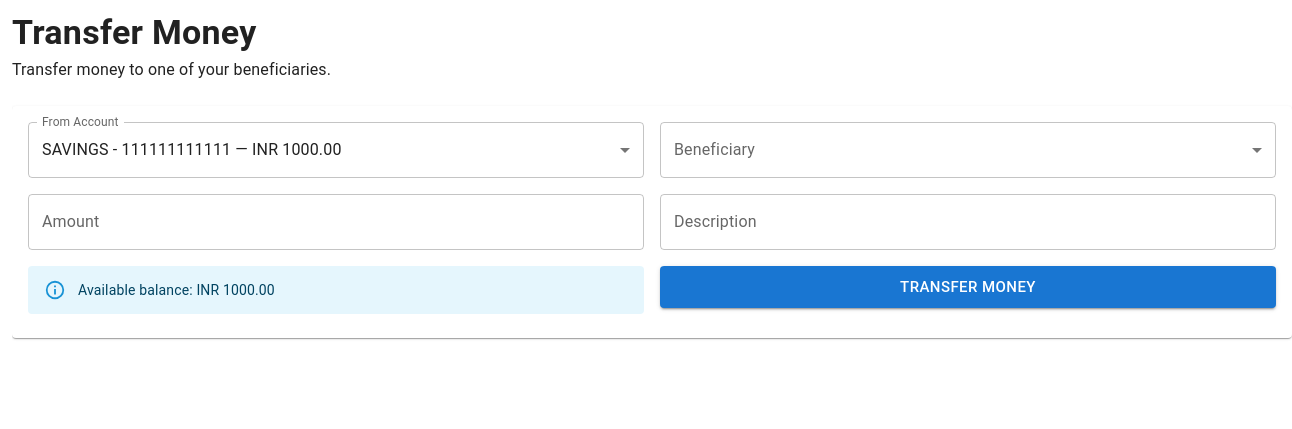
Test: Transfer › rejects an amount greater than the balance
This screenshot has width=1292, height=429.
Click the 2nd dropdown at (968, 150), box [660,122,1276,178]
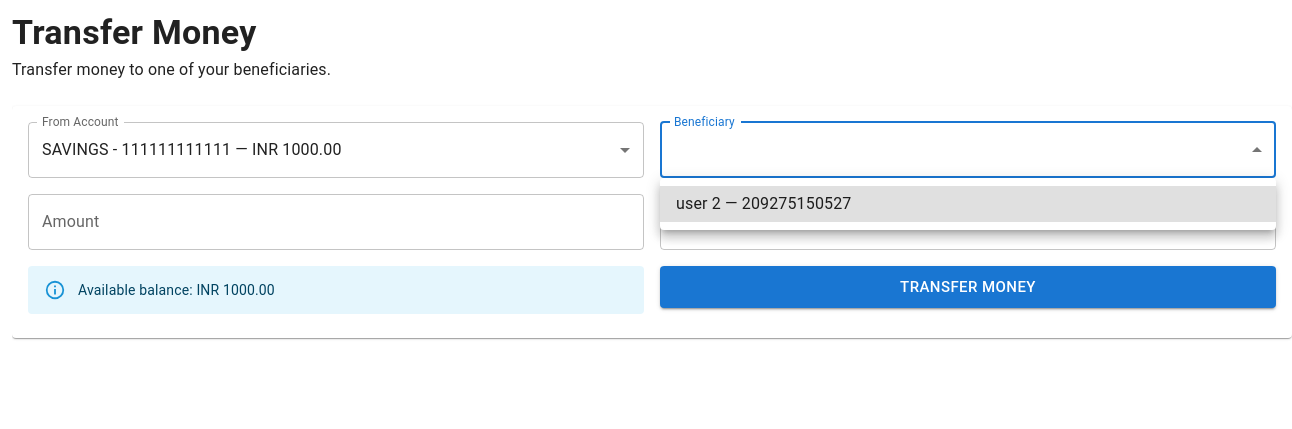
Click the option "user 2 — 209275150527" at (698, 204), box [660,186,1276,222]
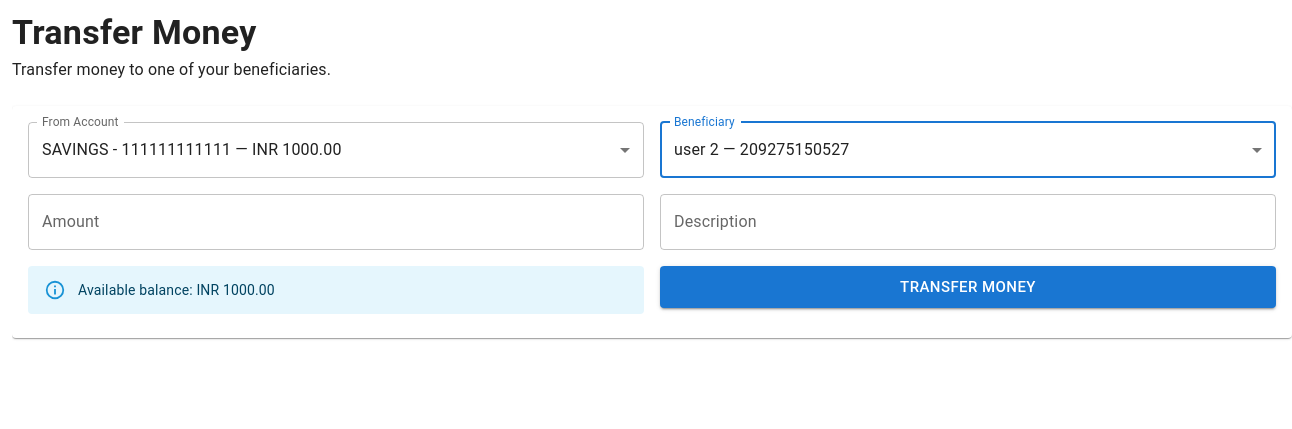
Type "2000" into the number field labelled "Amount" at (336, 222), box [28,194,644,250]
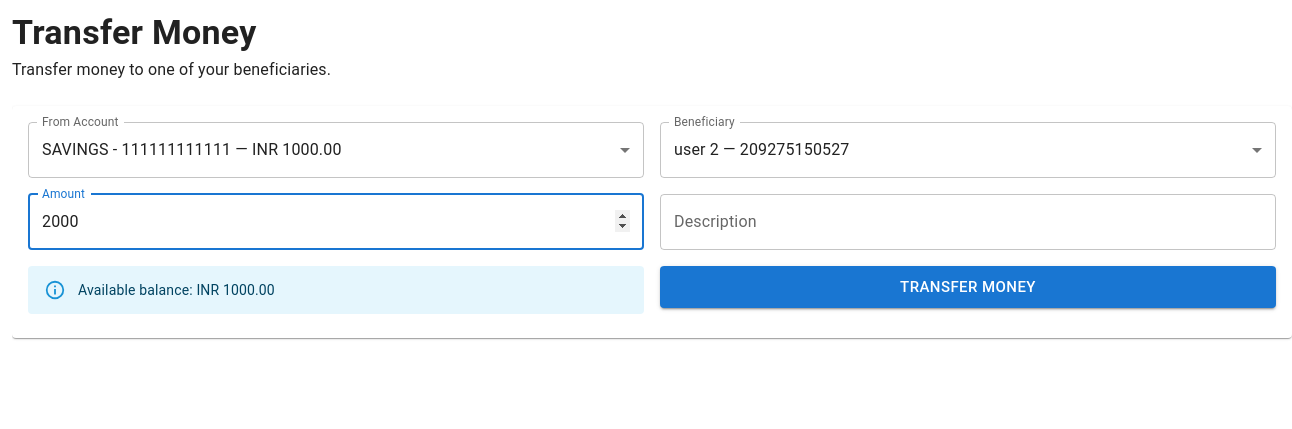
Click the button "Transfer Money" at (968, 287), box [660,266,1276,308]
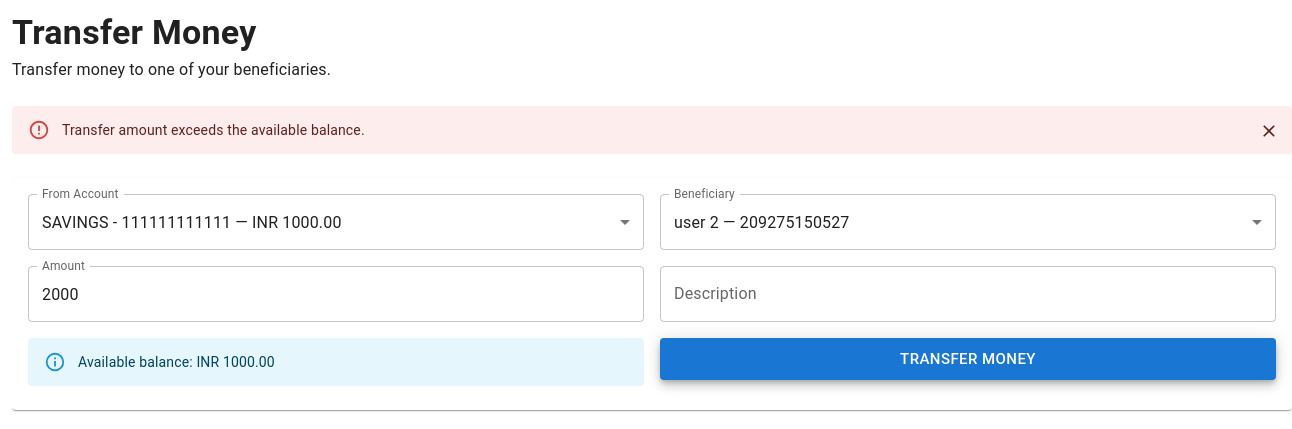
Result: the text "Transfer amount exceeds the available balance." is shown at [62,122,365,138]
